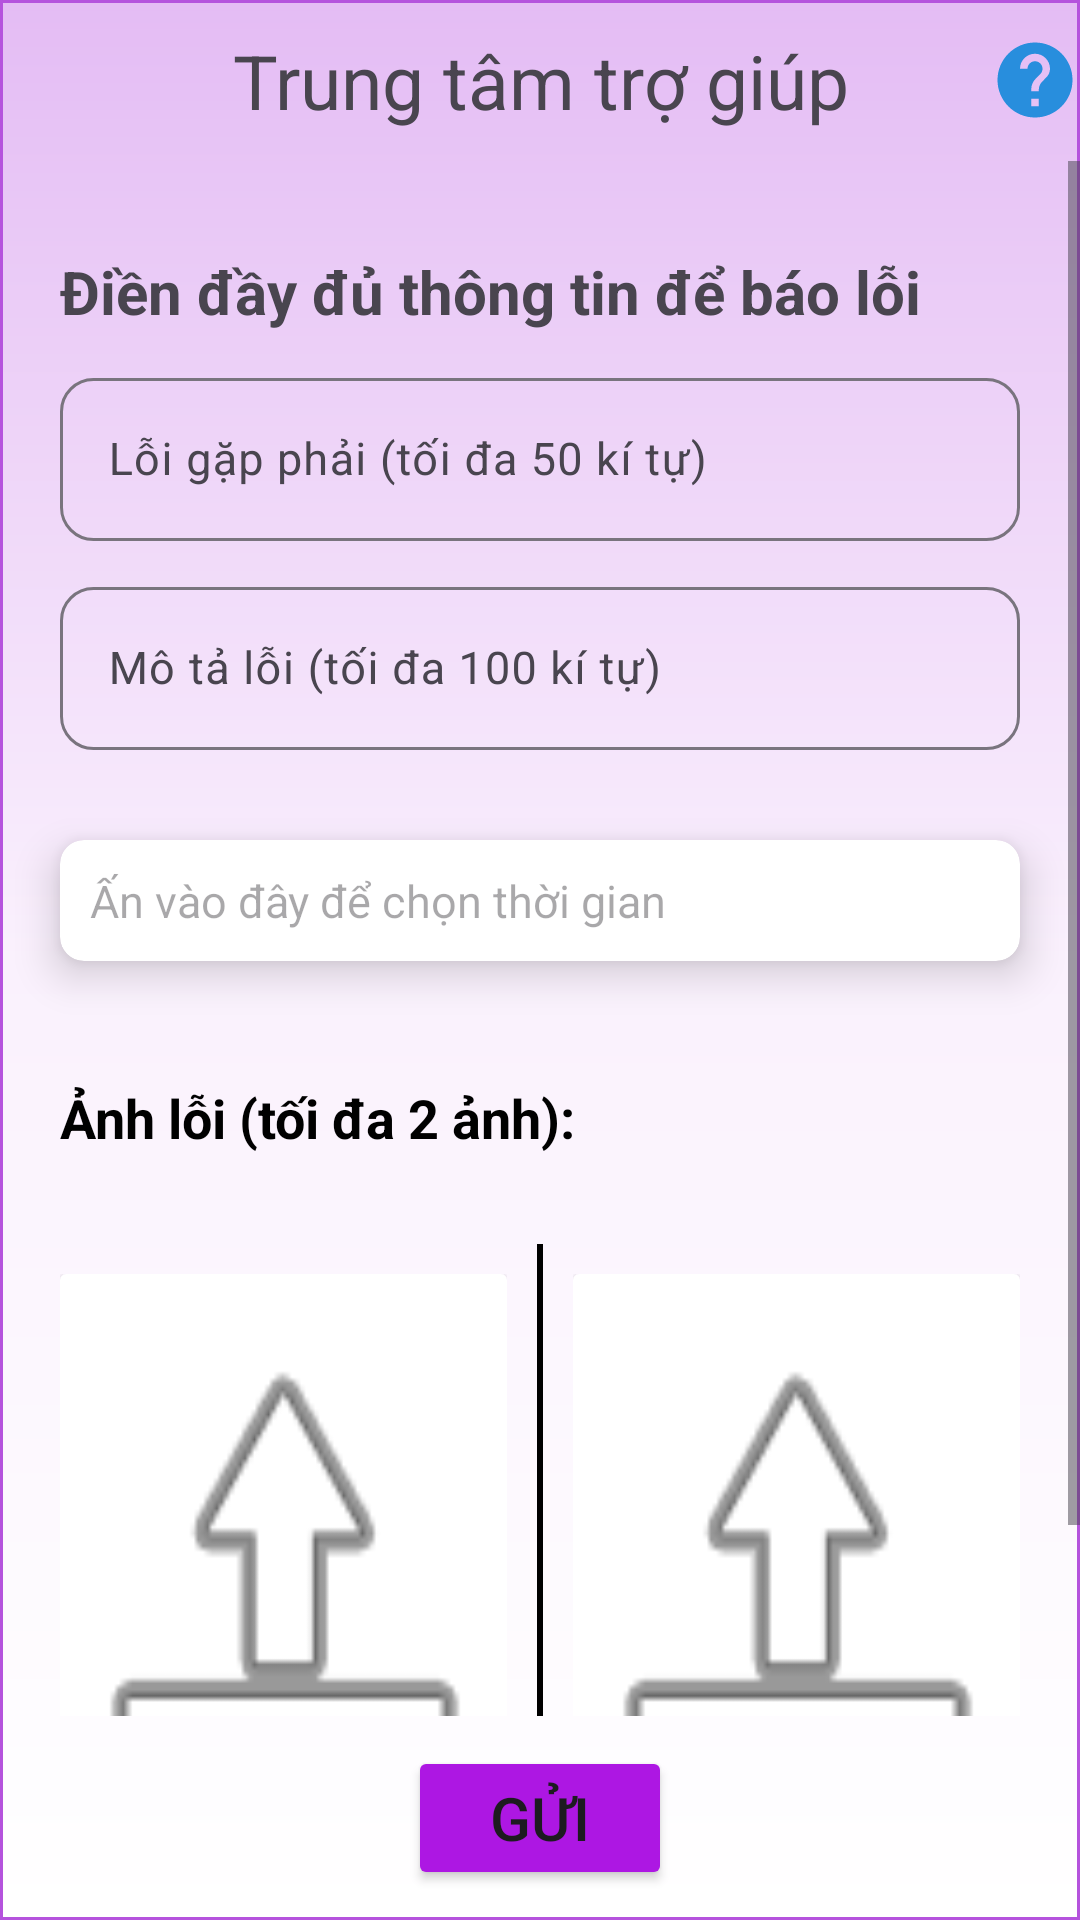

Locate icon controls on the screen. Image size 1080×1920, boxes as (x1, y1, x2, y2).
help: (997, 42, 1073, 118)
